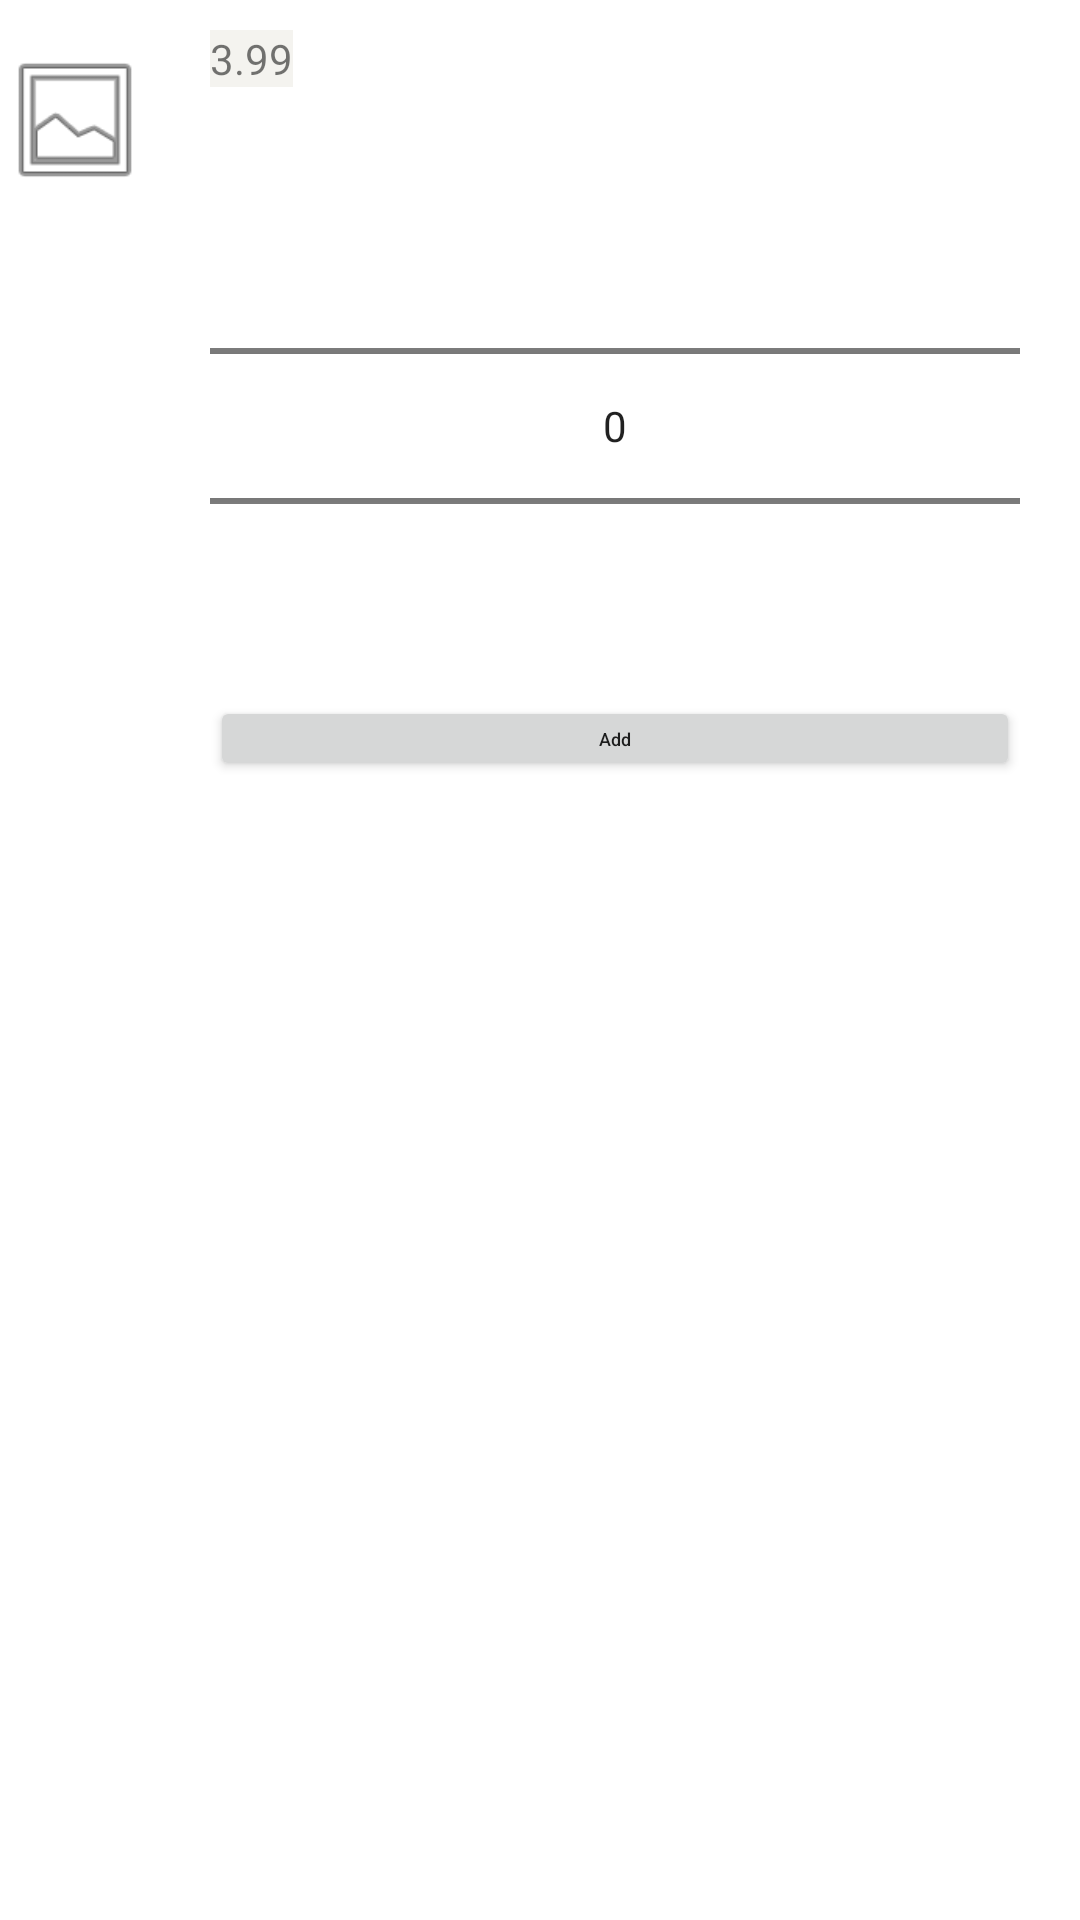

Icons on this 1080 × 1920 Android screen, each with the point to tap as point (x, y):
gallery: point (75, 120)
